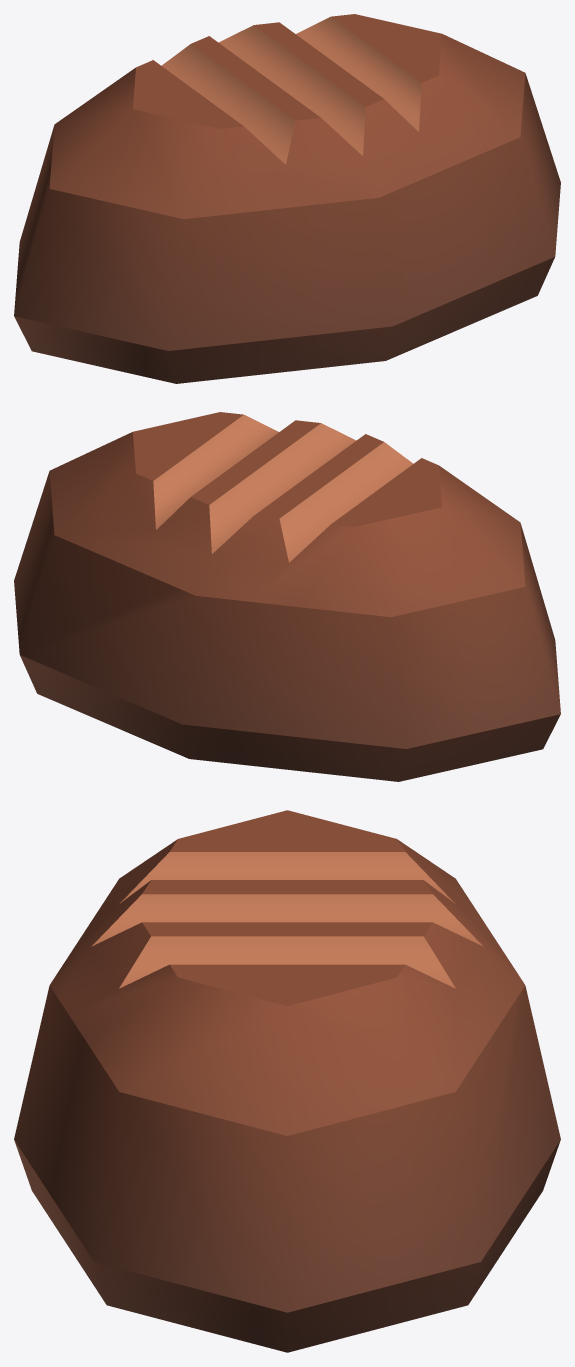
Rendered from loaf-round.glb.
3 renders of one model, top to bottom at view 1: azimuth 30°, elevation 25°; view 2: azimuth 150°, elevation 25°; view 3: azimuth 270°, elevation 25°, orthographic. The views are drawn at different scales.
Parts seen in each view (by area): view 1: loaf-round; view 2: loaf-round; view 3: loaf-round.
Boxes of the visible parts, left/top/right/bottom form: loaf-round: left=14, top=14, right=560, bottom=383; loaf-round: left=14, top=412, right=560, bottom=781; loaf-round: left=14, top=810, right=560, bottom=1352.
Bounding box in the file's own units: 0.7717 × 0.2932 × 0.5145.
